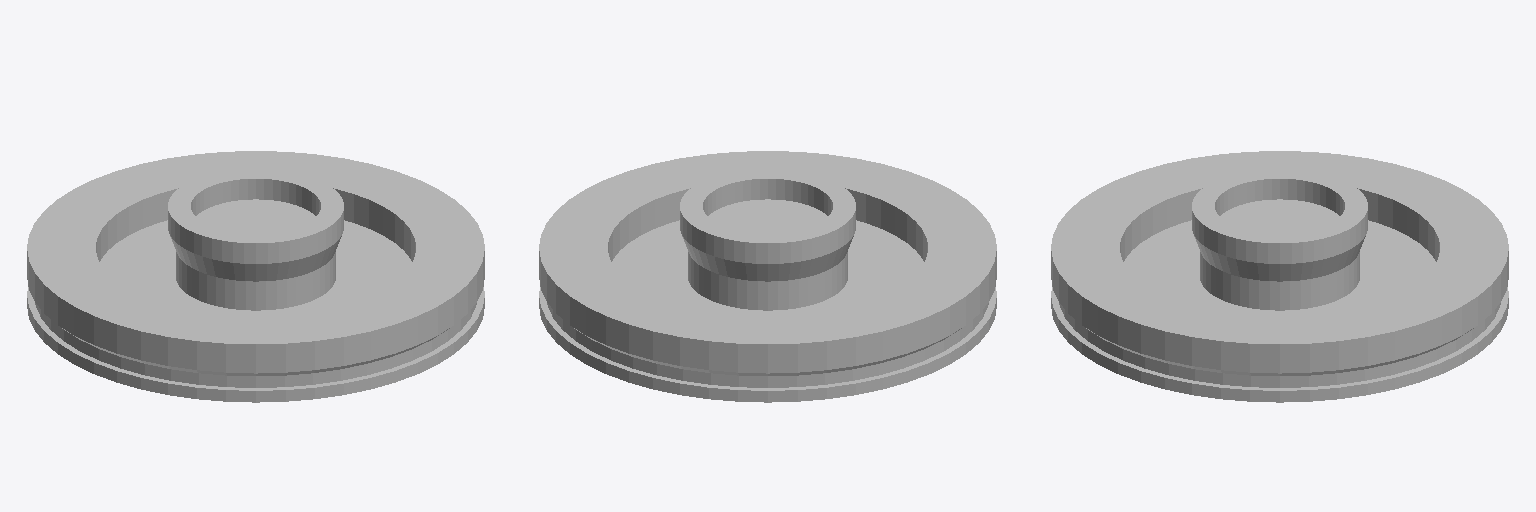
The model's file is fountainRoundDetail.obj.
3 views of the same model, side by side, from view 1: azimuth 30°, elevation 25°; view 2: azimuth 150°, elevation 25°; view 3: azimuth 270°, elevation 25° (orthographic).
Parts seen in each view (by area): view 1: fountainRoundDetail; view 2: fountainRoundDetail; view 3: fountainRoundDetail.
Boxes of the visible parts, x1,y1,x2,y2 form: fountainRoundDetail: [27, 151, 484, 402]; fountainRoundDetail: [539, 151, 996, 402]; fountainRoundDetail: [1051, 151, 1508, 402].
Size of the model in its own units: 2 by 0.48 by 2.